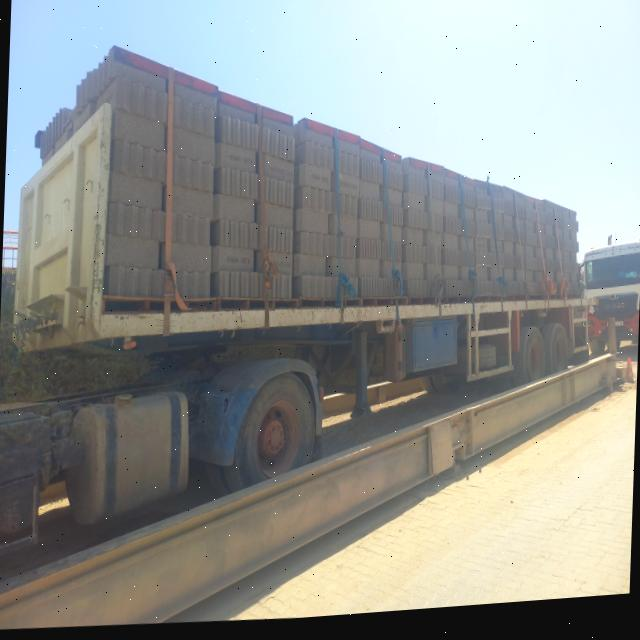bricks: (36, 46, 578, 311)
